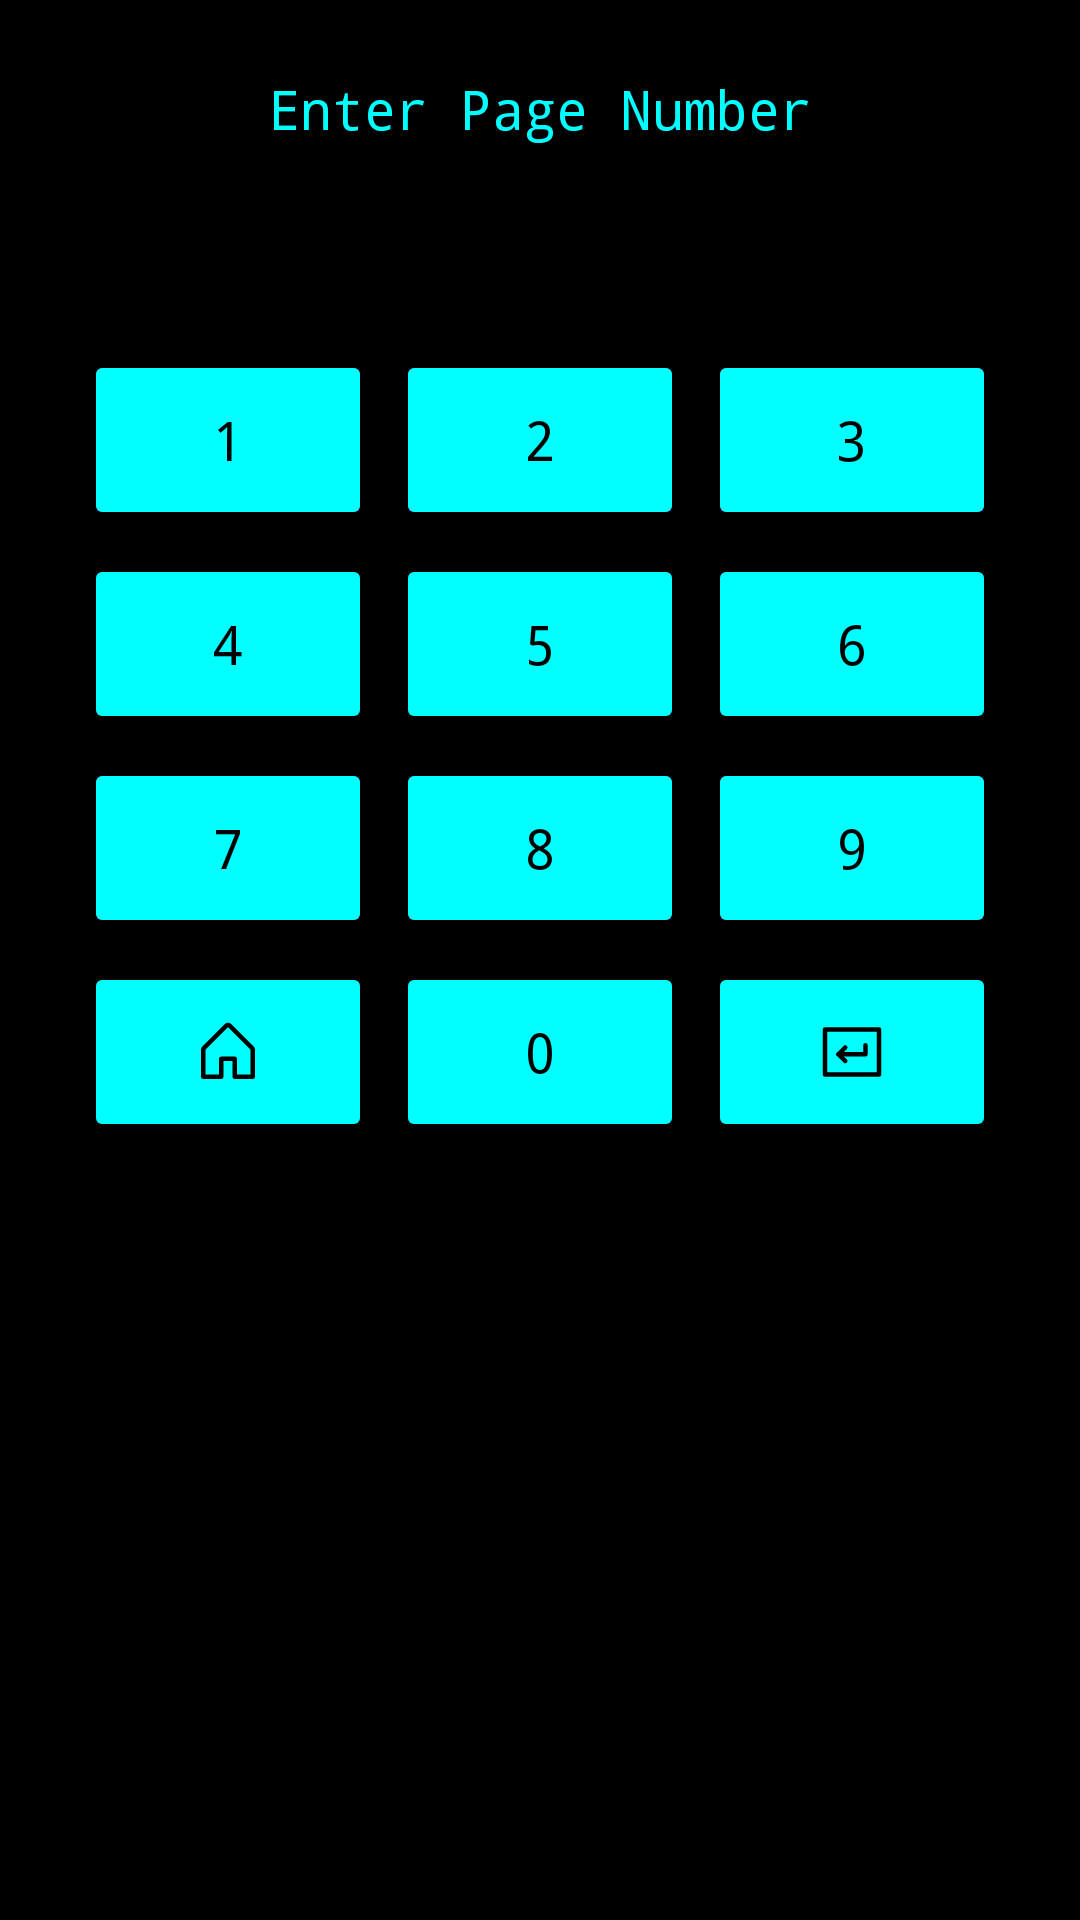

Screen size 1080*1920. Icon name, then its center in pixels as (x,y):
Enter: (852,1052)
Home: (228,1052)
